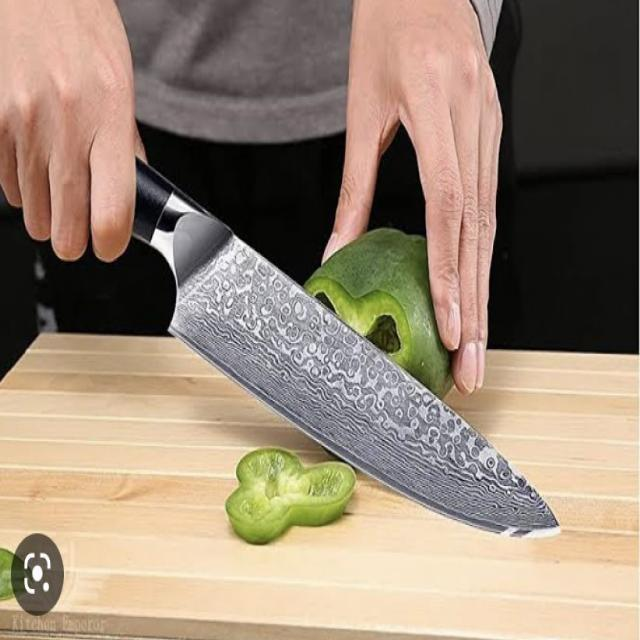Knife: (66, 148, 566, 542)
